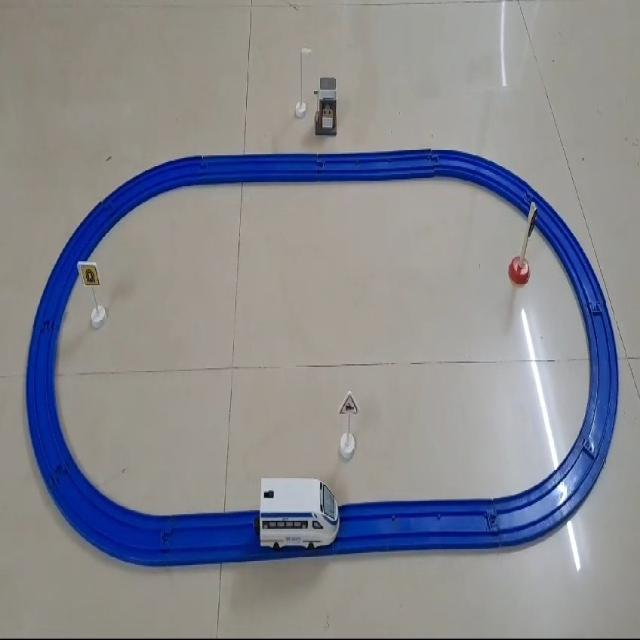bus: (257, 475, 340, 549)
